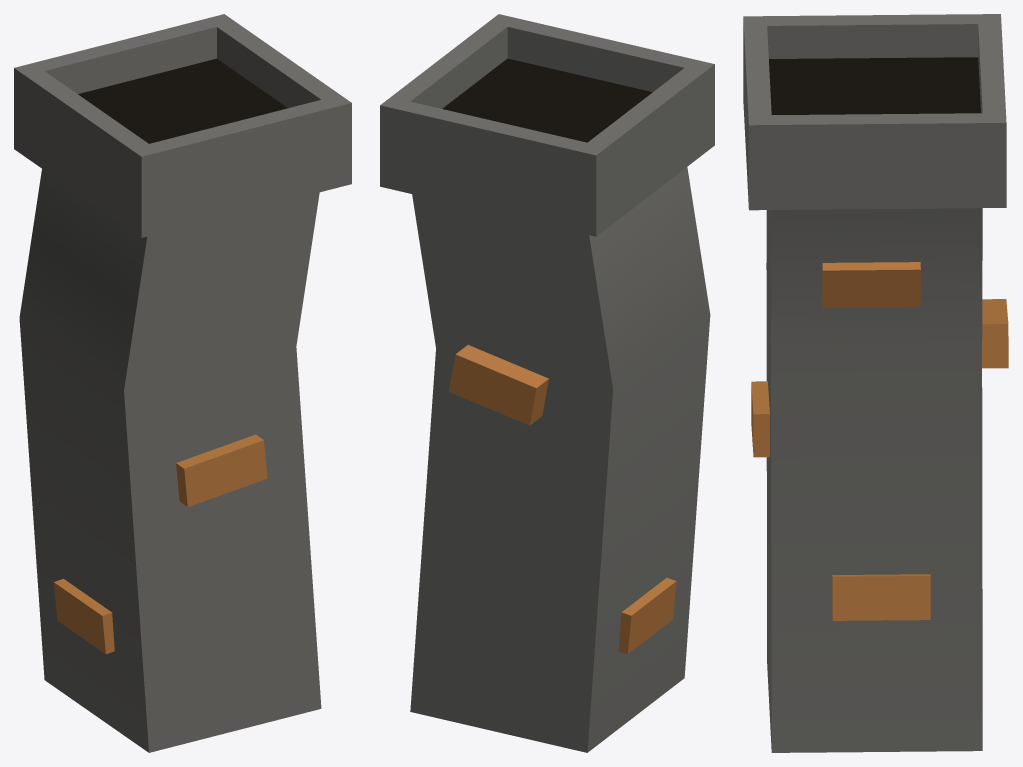
File: SM_Chimney1_LOD0.fbx
3 renders of one model, left to right at view 1: azimuth 30°, elevation 25°; view 2: azimuth 150°, elevation 25°; view 3: azimuth 270°, elevation 25°, orthographic. The views are drawn at different scales.
Visible parts, largest first — view 1: SM_Chimney2_LOD0; view 2: SM_Chimney2_LOD0; view 3: SM_Chimney2_LOD0.
Part boxes in pixels (left/top/right/bottom): SM_Chimney2_LOD0: left=14, top=14, right=351, bottom=752; SM_Chimney2_LOD0: left=380, top=14, right=714, bottom=752; SM_Chimney2_LOD0: left=743, top=14, right=1008, bottom=752.
Size of the model in its own units: 1.28 by 3.33 by 1.26.
